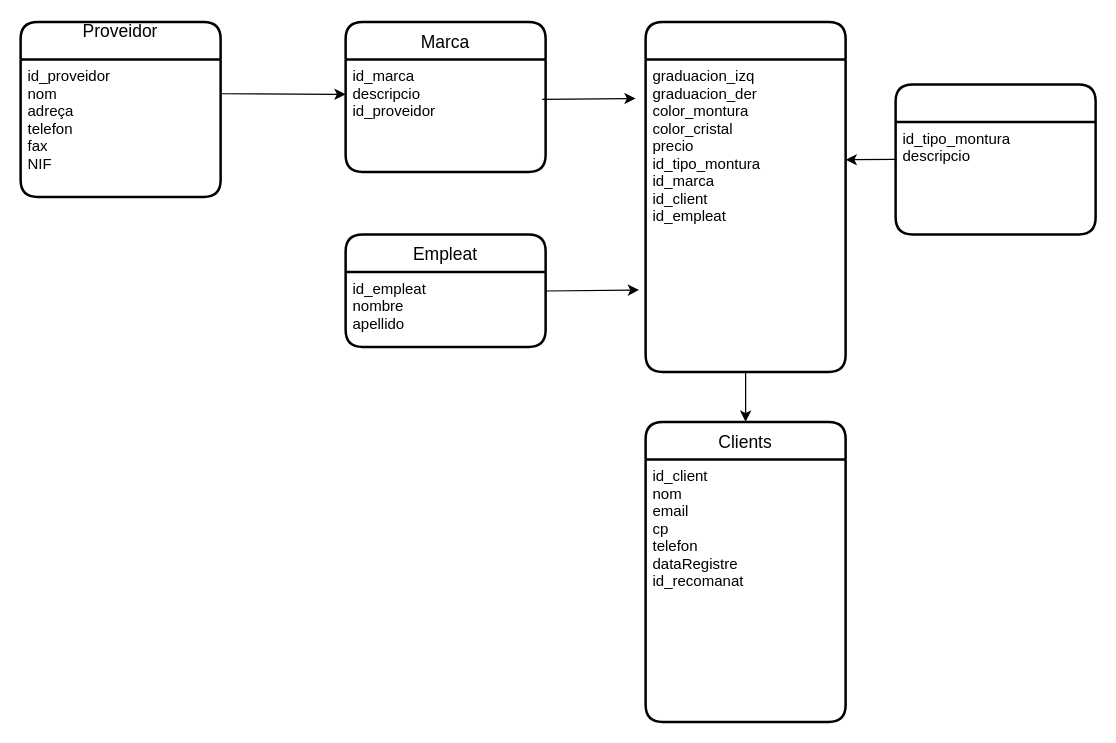
The diagram is 1116 pixels wide and 743 high, and some of its shapes have lost their labels. Each missing label, with the box of its shape:
TipusMuntura: (894, 82, 1096, 235)
Ulleres: (644, 20, 846, 372)
